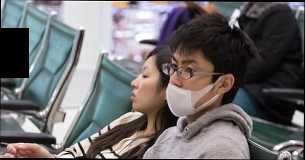with_mask: (163, 54, 214, 116)
without_mask: (129, 63, 162, 111)
